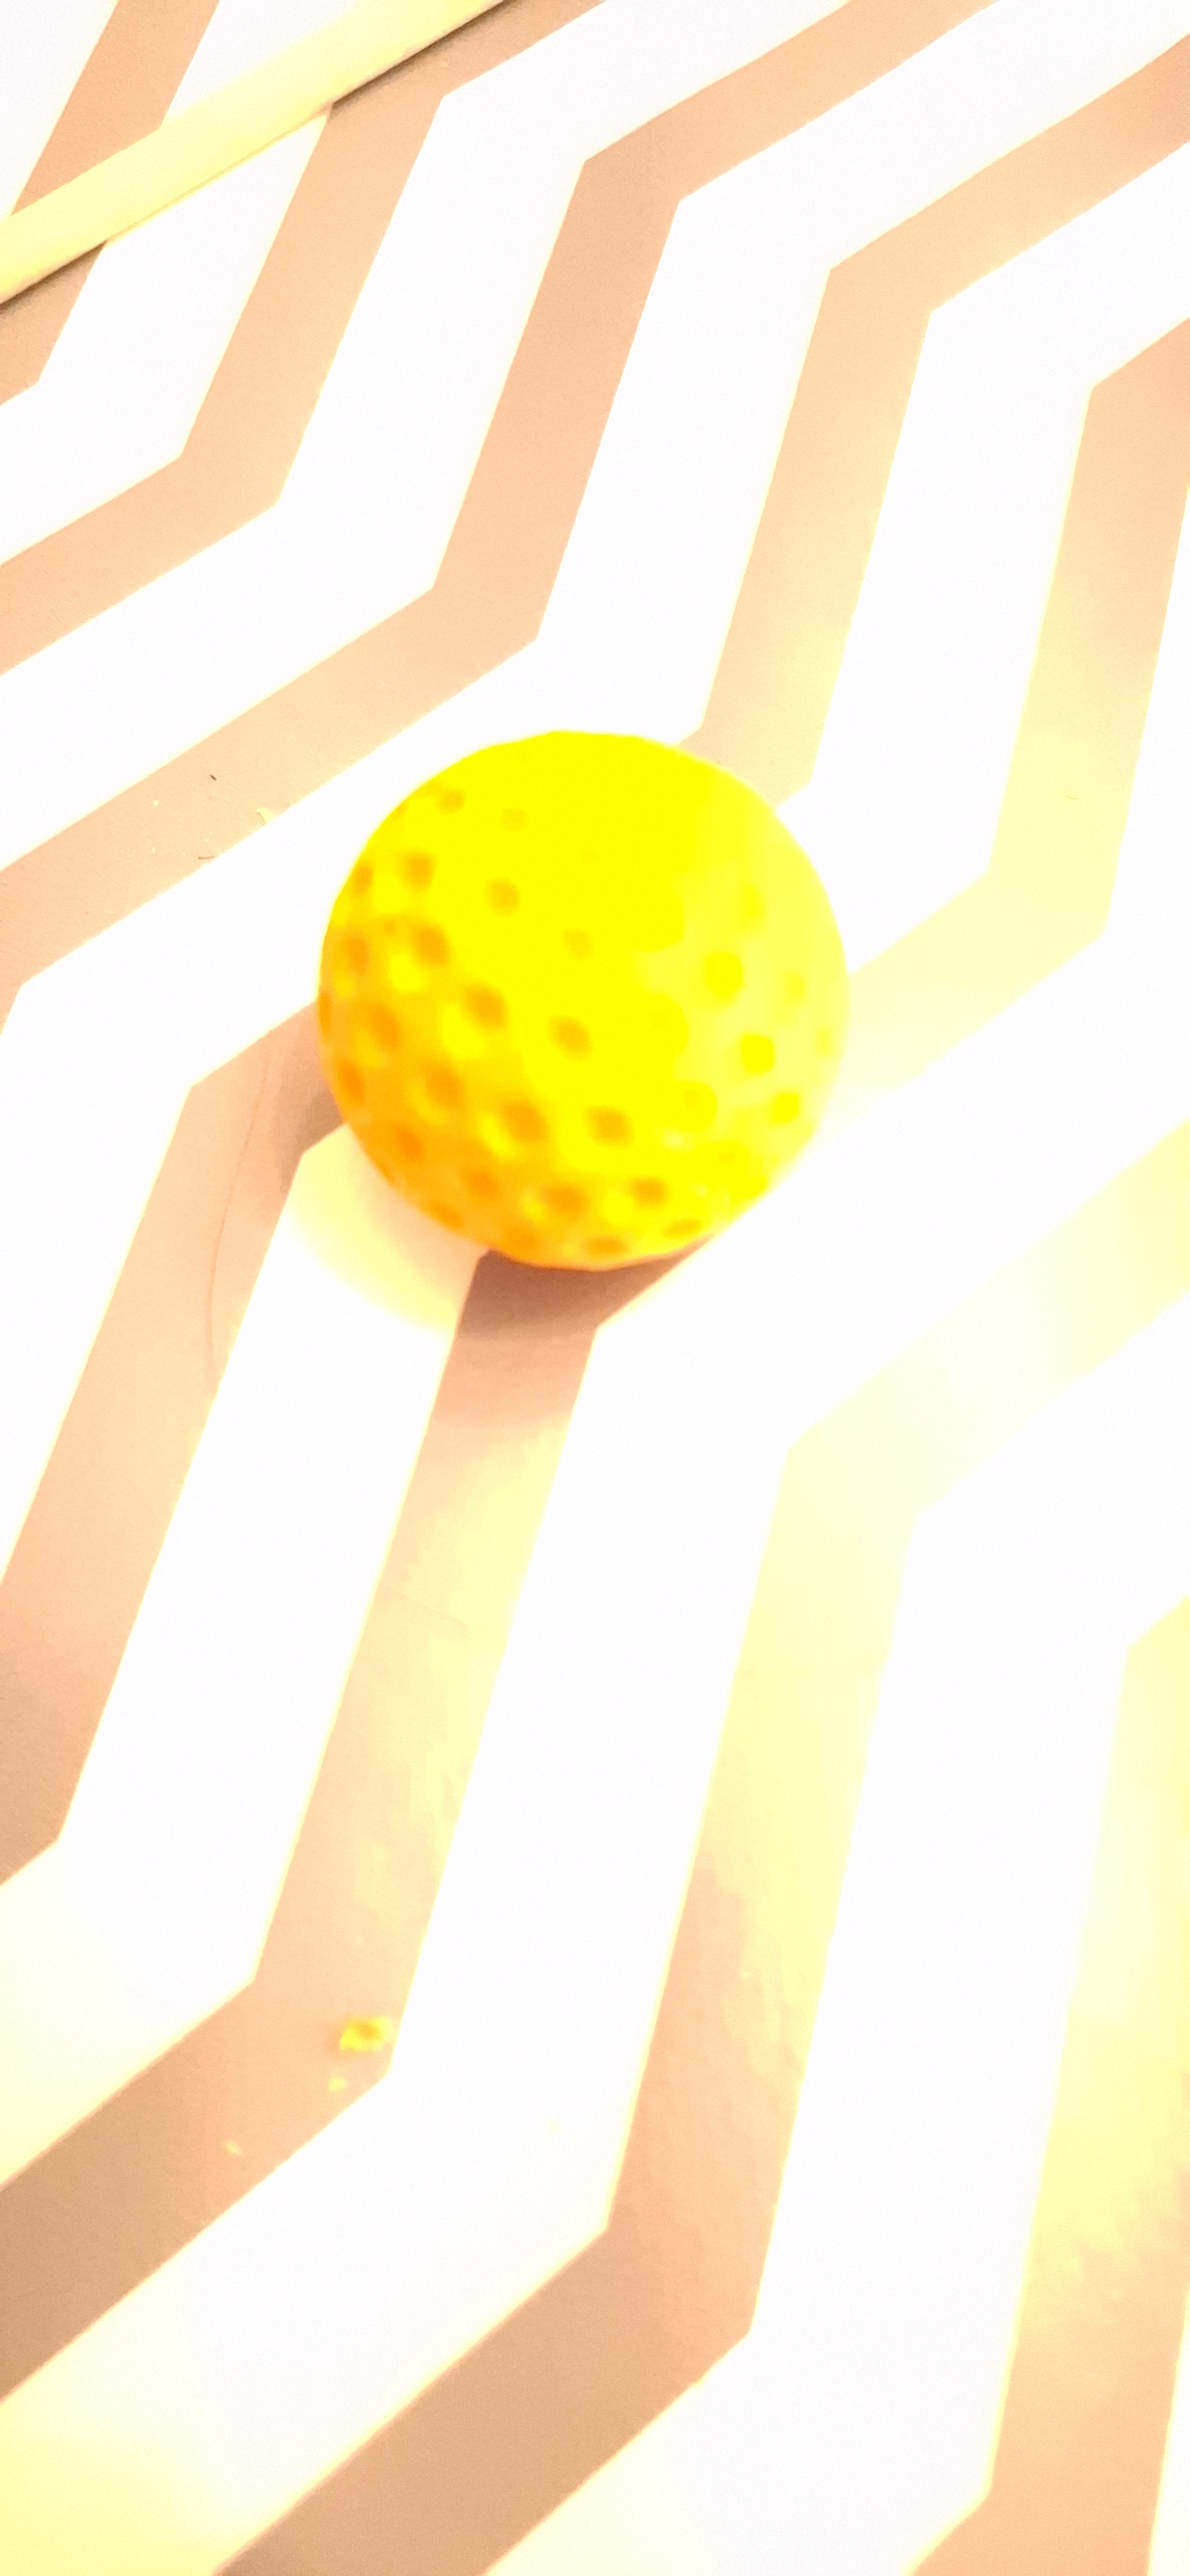ball: (335, 739, 590, 1902)
